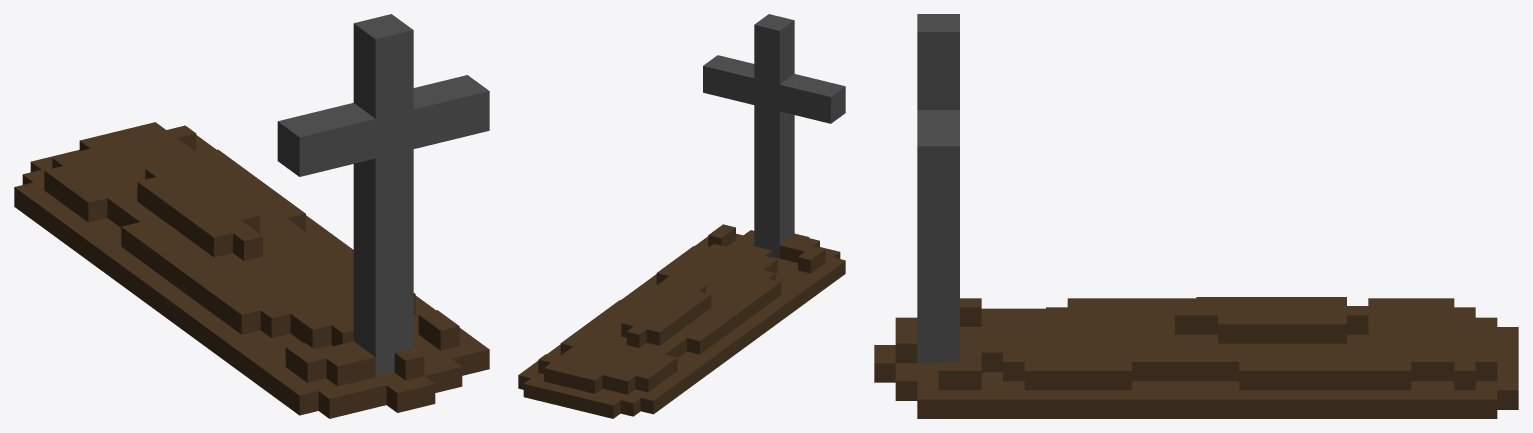
Rendered from Lapide 03.obj.
3 renders of one model, left to right at view 1: azimuth 30°, elevation 25°; view 2: azimuth 150°, elevation 25°; view 3: azimuth 270°, elevation 25°, orthographic. The views are drawn at different scales.
Size of the model in its own units: 1 by 1.8 by 3.
1 material, 1 textured.
